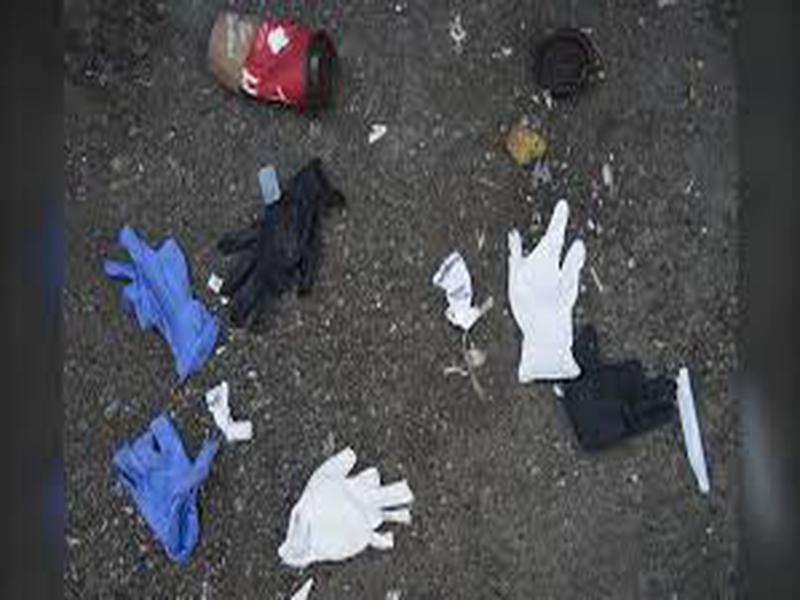cup: (201, 8, 343, 114)
gloves: (218, 156, 349, 334), (92, 224, 221, 381), (274, 438, 419, 571), (101, 413, 226, 565), (502, 194, 591, 388), (561, 323, 680, 452)
